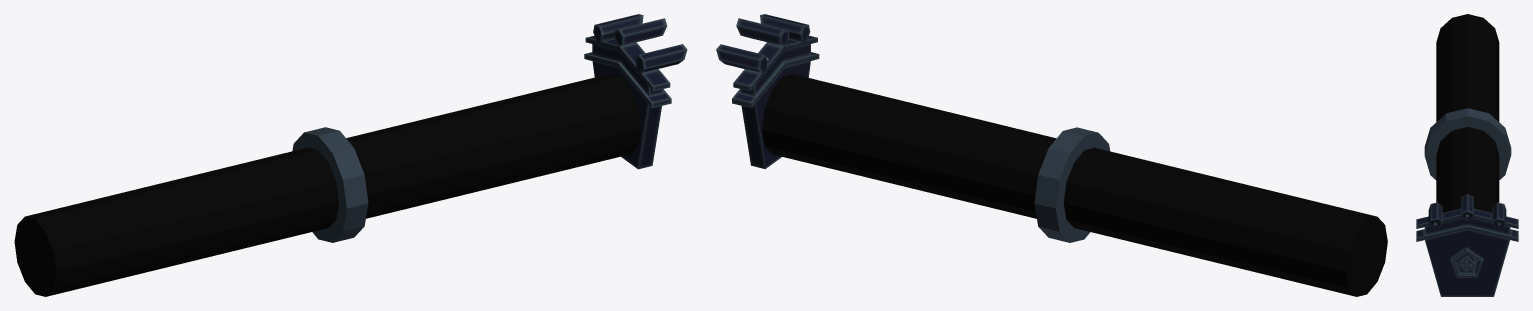
The model's file is Roof_Object1_JP_Tiles.fbx.
3 views of the same model, side by side, from view 1: azimuth 30°, elevation 25°; view 2: azimuth 150°, elevation 25°; view 3: azimuth 270°, elevation 25° (orthographic). The views are drawn at different scales.
Parts seen in each view (by area): view 1: Roof_Object1_JP_Tiles_LOD0; view 2: Roof_Object1_JP_Tiles_LOD0; view 3: Roof_Object1_JP_Tiles_LOD0.
Boxes of the visible parts, x1,y1,x2,y2 form: Roof_Object1_JP_Tiles_LOD0: (14,14,687,296); Roof_Object1_JP_Tiles_LOD0: (716,14,1387,296); Roof_Object1_JP_Tiles_LOD0: (1416,14,1518,296).
Size of what is drawn, in the model's own units: 709 by 147 by 132.
